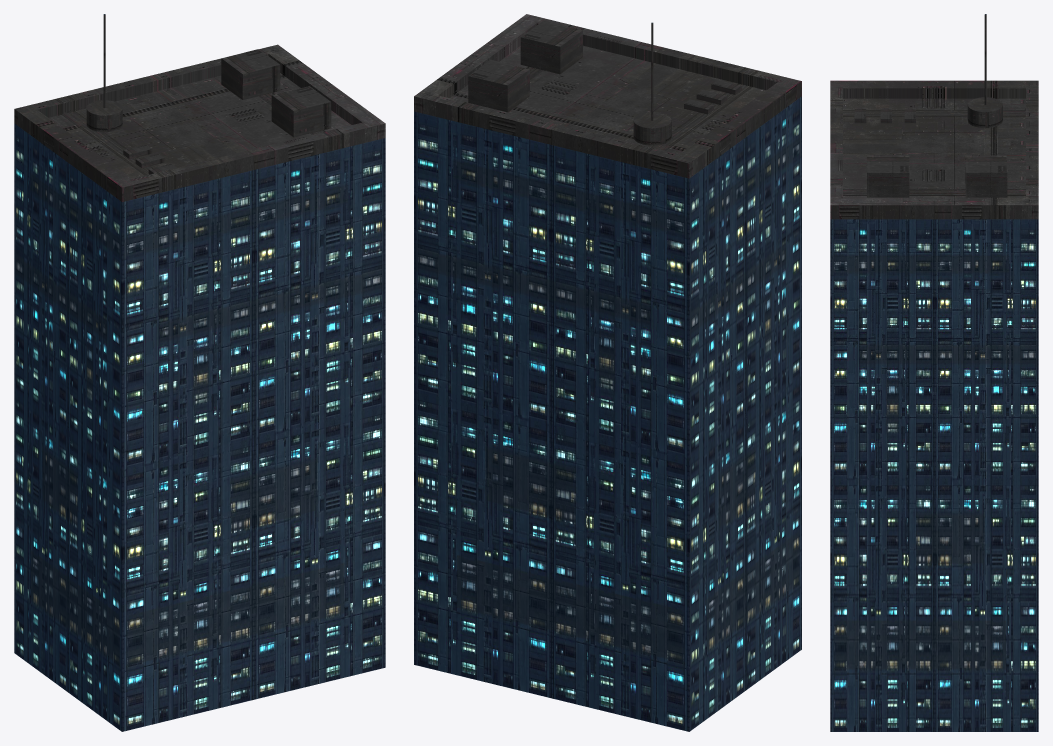
Rendered from 2026-residential-building-6.glb.
3 views of the same model, side by side, from view 1: azimuth 30°, elevation 25°; view 2: azimuth 150°, elevation 25°; view 3: azimuth 270°, elevation 25° (orthographic). The views are drawn at different scales.
Visible parts, largest first — view 1: 2026-residential-building-6; view 2: 2026-residential-building-6; view 3: 2026-residential-building-6.
Part boxes in pixels (box(x1,y1,x2,y2)): 2026-residential-building-6: box(14, 14, 385, 731); 2026-residential-building-6: box(414, 14, 801, 731); 2026-residential-building-6: box(830, 14, 1038, 731).
Size of the model in its own units: 56.33 by 131 by 39.89.
Materials: 2 (2 with a texture image).
